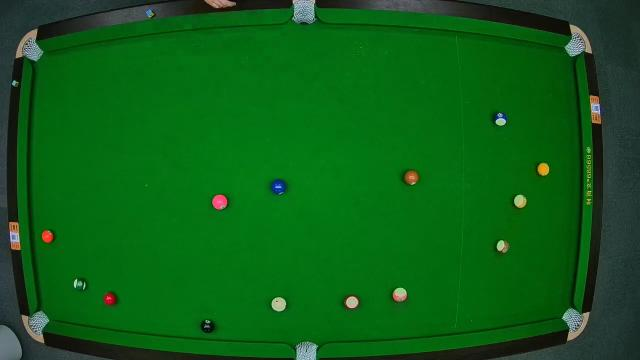bag1: (22, 40, 38, 61)
bag2: (294, 1, 316, 25)
bag3: (568, 34, 588, 56)
bag4: (26, 310, 48, 332)
bag5: (295, 340, 319, 360)
bag6: (563, 309, 583, 331)
ball0: (271, 296, 287, 312)
ball1: (538, 162, 550, 176)
ball10: (493, 112, 507, 126)
ball11: (344, 294, 360, 310)
ball12: (392, 286, 408, 302)
ball14: (73, 277, 87, 291)
ball15: (496, 238, 510, 254)
ball2: (271, 179, 287, 195)
ball3: (103, 292, 117, 307)
ball4: (212, 194, 228, 210)
ball5: (42, 229, 54, 243)
ball7: (404, 170, 418, 186)
ball8: (200, 319, 217, 333)
ball9: (514, 194, 528, 209)
